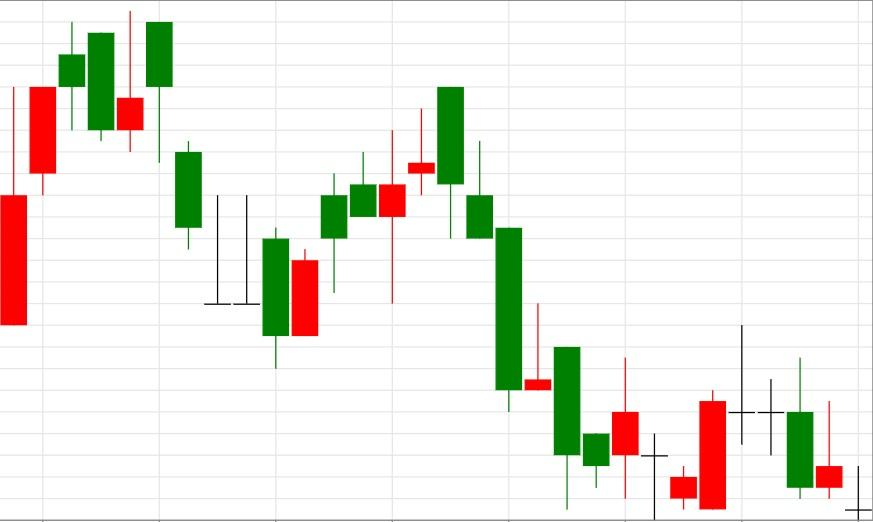three_black_crows_fall: (262, 86, 523, 411)
